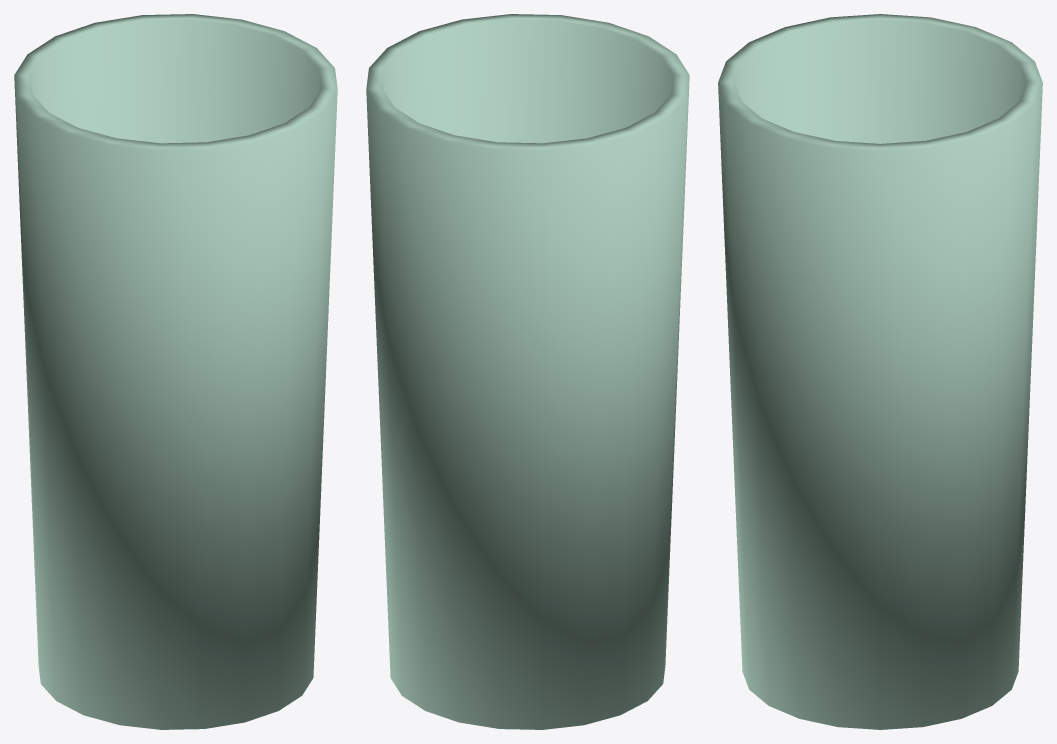
Rendered from Glass_Kitchen.fbx.
The picture shows the model from 3 angles, left to right: view 1: azimuth 30°, elevation 25°; view 2: azimuth 150°, elevation 25°; view 3: azimuth 270°, elevation 25°; orthographic projection.
Visible parts, largest first — view 1: Glass_Kitchen; view 2: Glass_Kitchen; view 3: Glass_Kitchen.
Part boxes in pixels (x1,y1,x2,y2): Glass_Kitchen: [14, 14, 337, 729]; Glass_Kitchen: [366, 14, 689, 729]; Glass_Kitchen: [718, 14, 1042, 729].
Size of the model in its own units: 6 by 12.01 by 6.
